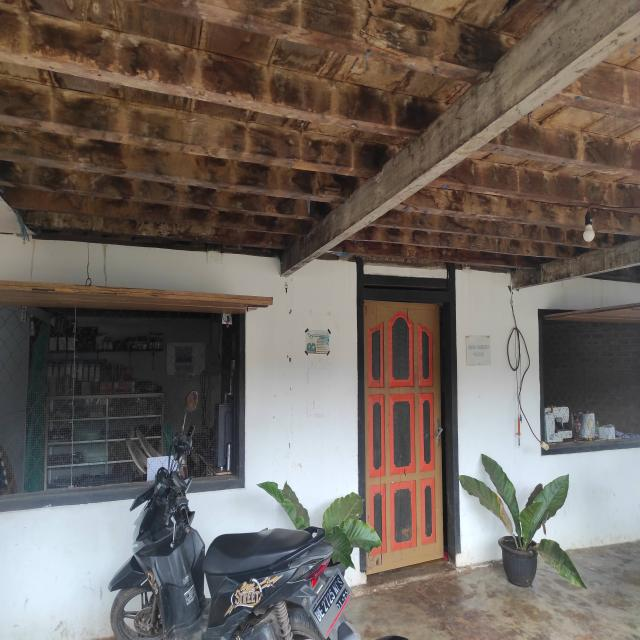Pintu: (358, 274, 461, 571)
